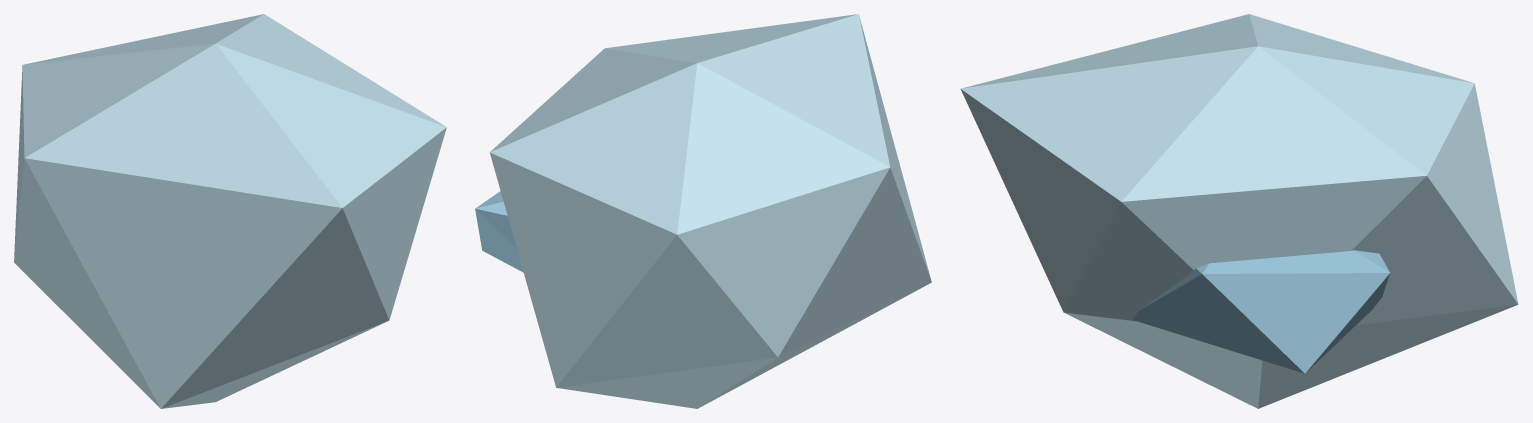
The model's file is IceBlockB.glb.
3 renders of one model, left to right at view 1: azimuth 30°, elevation 25°; view 2: azimuth 150°, elevation 25°; view 3: azimuth 270°, elevation 25°, orthographic. The views are drawn at different scales.
Visible parts, largest first — view 1: Ice.001; view 2: Ice.001, Ice core.001; view 3: Ice.001, Ice core.001.
Part boxes in pixels (<box>): Ice.001: <box>14,14,446,408</box>; Ice.001: <box>489,14,931,408</box>; Ice core.001: <box>475,191,523,272</box>; Ice.001: <box>960,14,1518,408</box>; Ice core.001: <box>1132,250,1389,373</box>.
Bounding box in the file's own units: 1.43 × 1.24 × 1.72.
